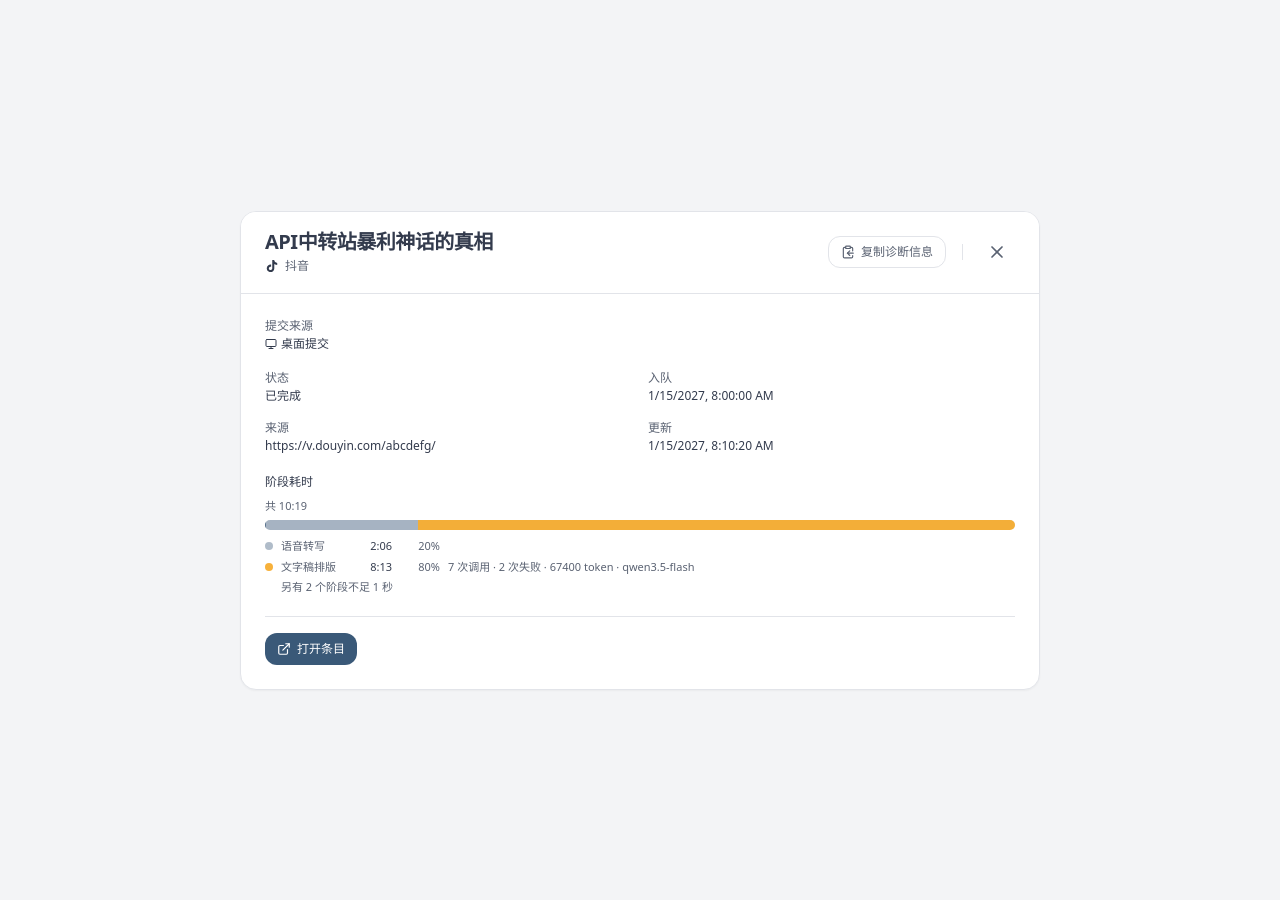
Scenario: 导入任务详情弹窗 › 亚秒阶段折成一行，点它展开全部
Expected: the text "抓取中" is not shown
# 折叠是为了扫视时的信噪比，但排查时「让我看全部」是正当需求
What coordinates should you click on to do the following:
click the button "另有 2 个阶段不足 1 秒"
I would click on:
 (337, 586)
Its box is [265, 579, 1015, 596].
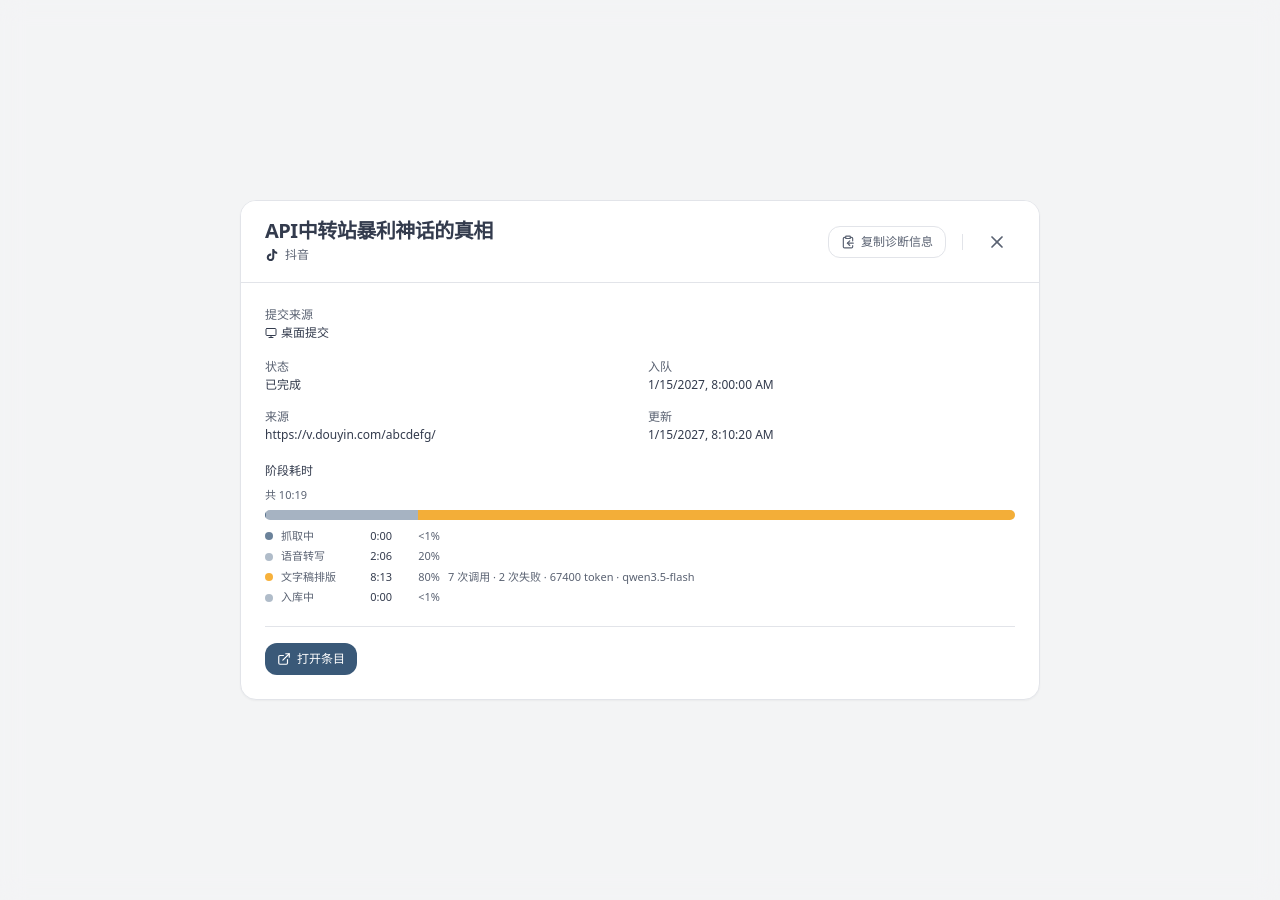
Now the text "抓取中" is shown, box [281, 528, 314, 543]
Now the text "入库中" is shown, box [281, 589, 314, 604]
Now the button "另有" is gone
